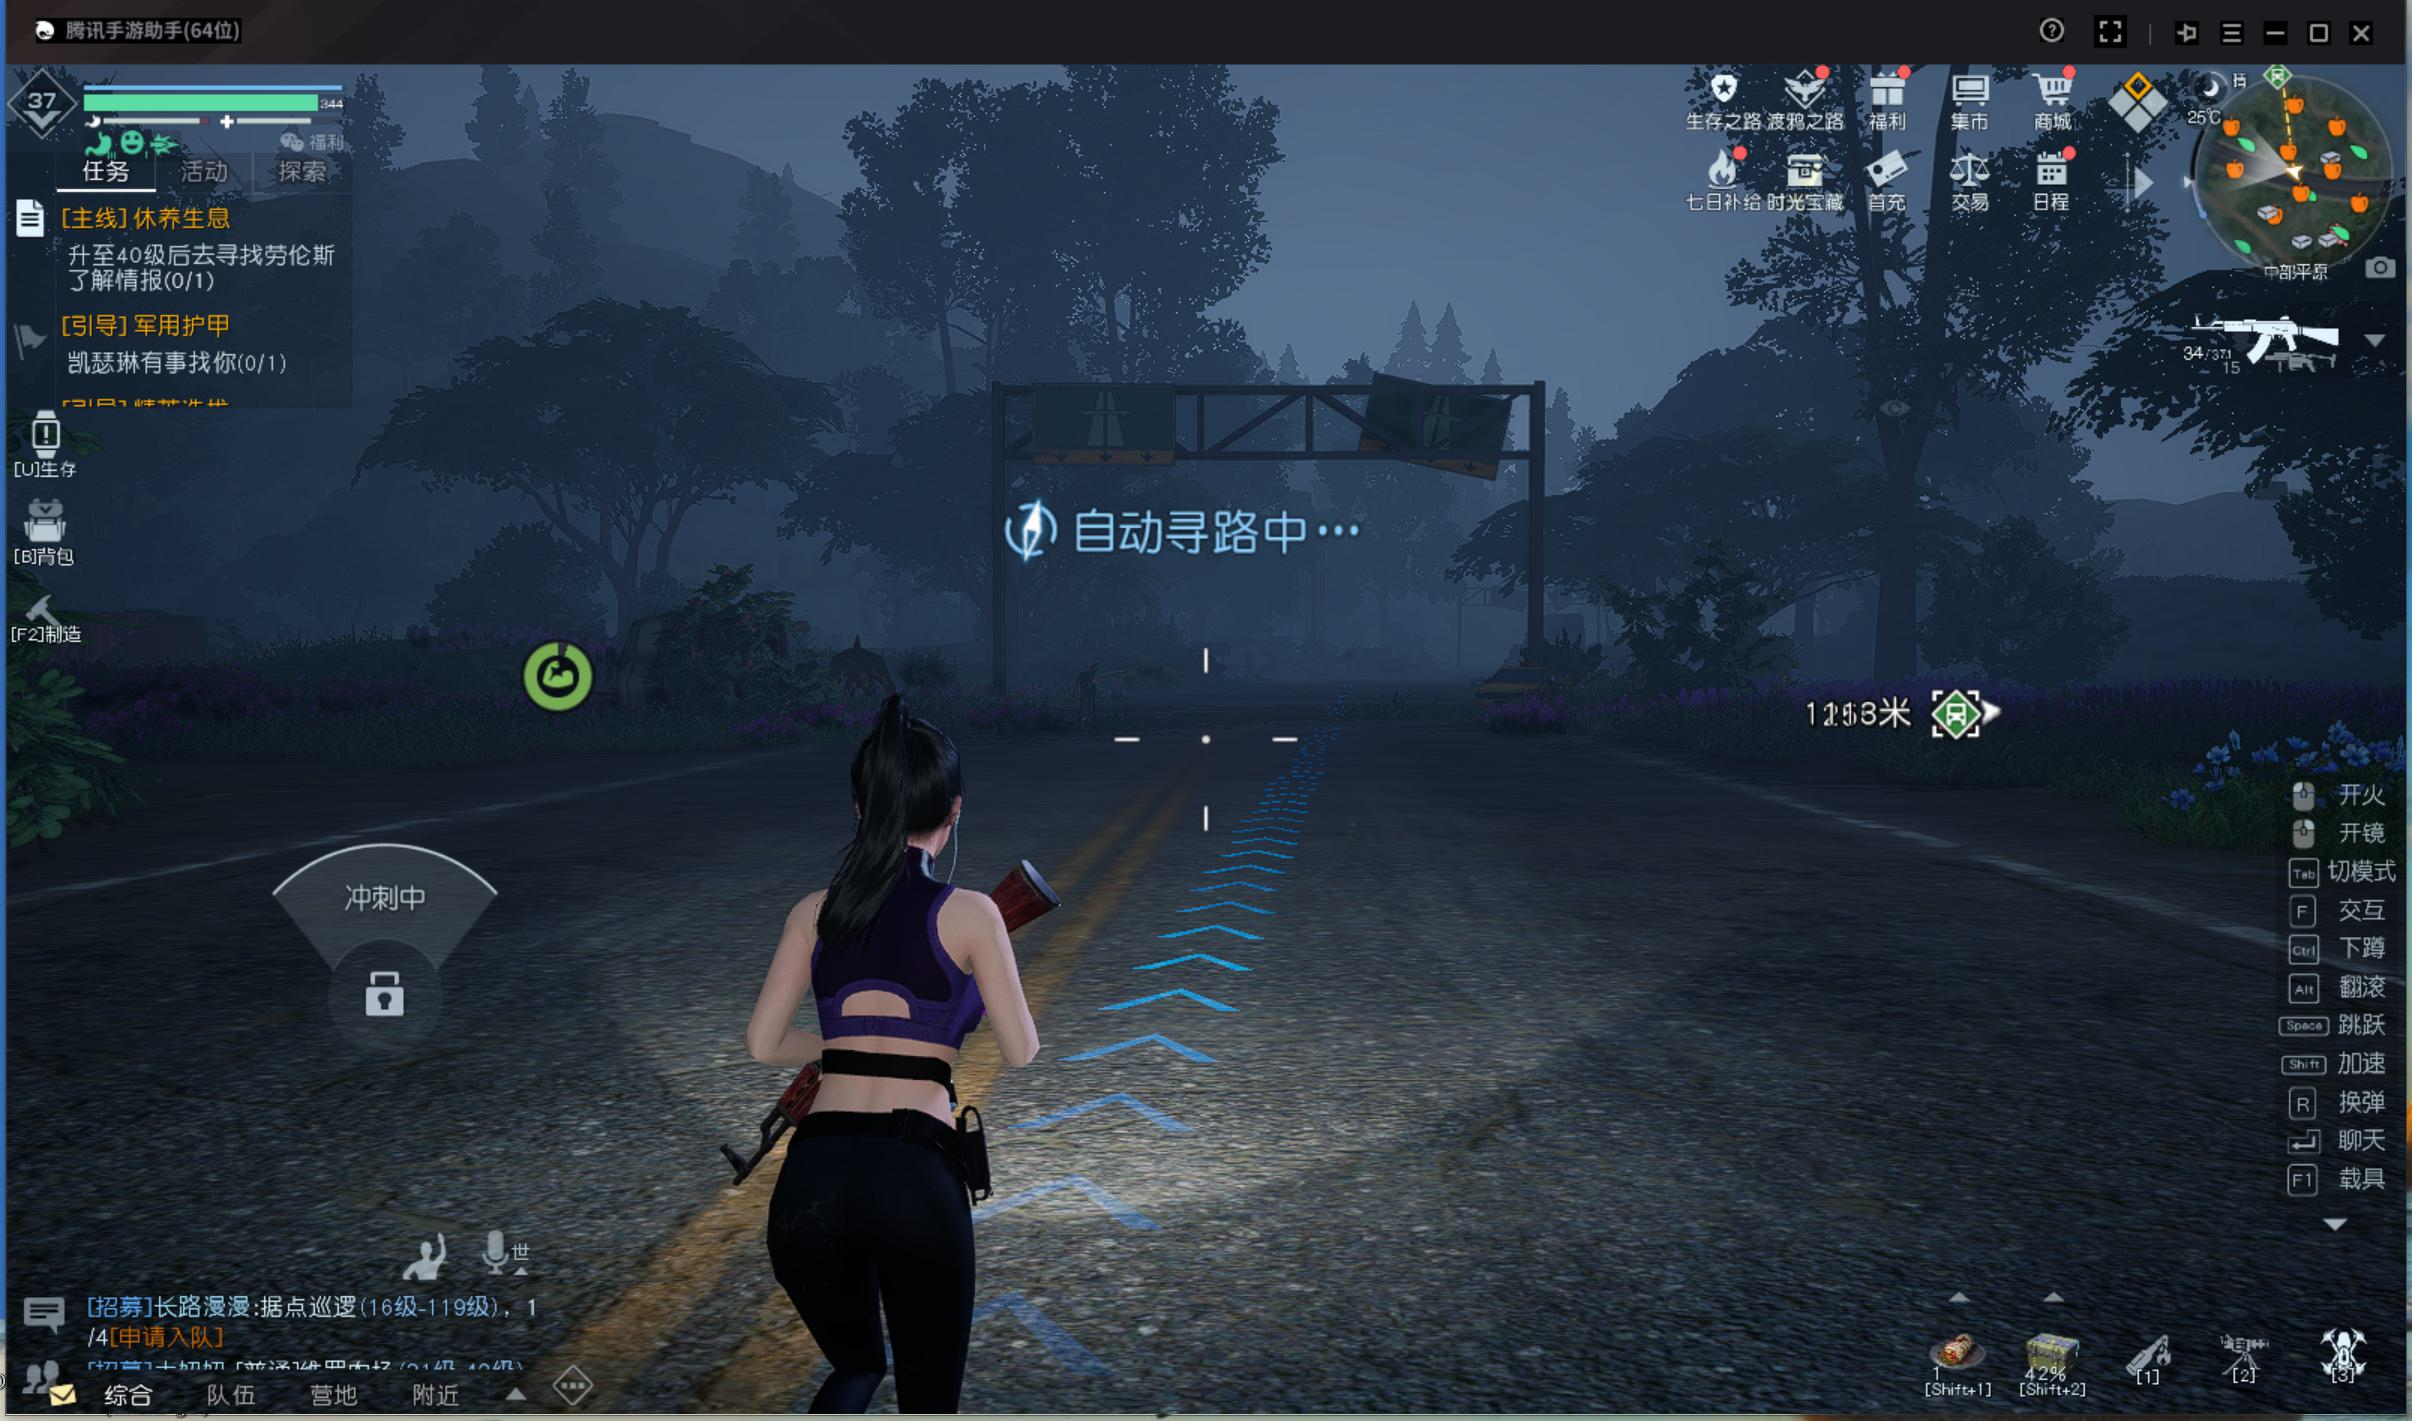tree: (1867, 431, 1928, 697), (606, 568, 643, 668)
